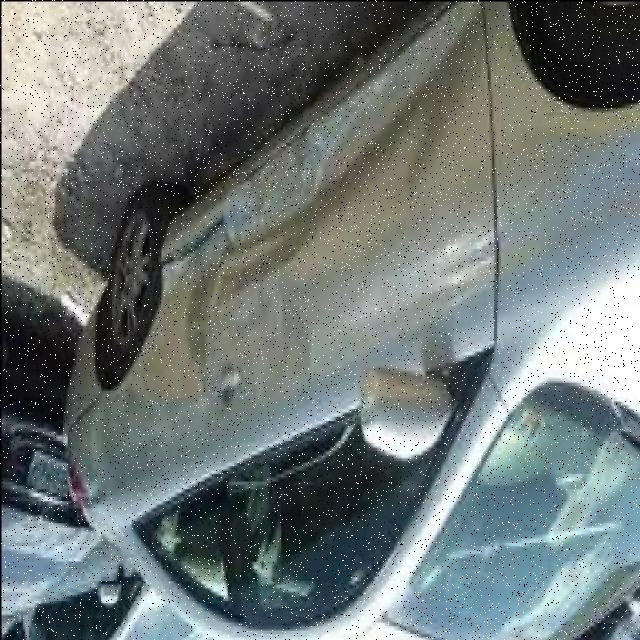damage: (159, 22, 467, 422)
